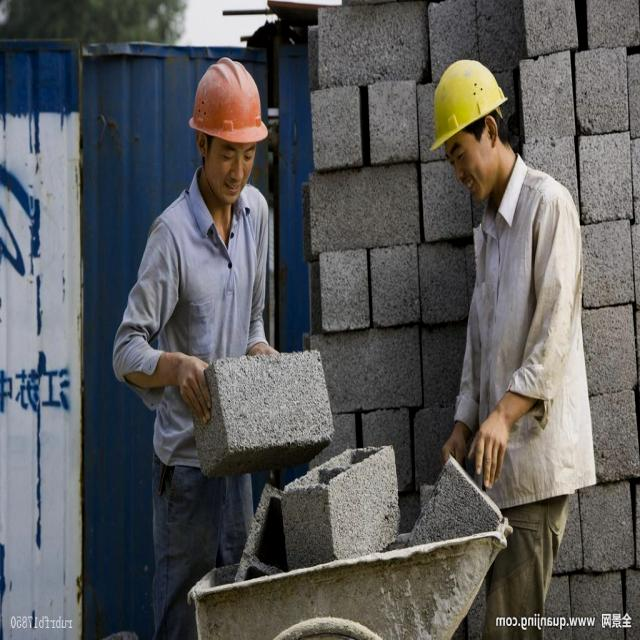face_nomask: (447, 125, 499, 206), (210, 144, 257, 203)
hand_noglove: (469, 402, 520, 496), (168, 348, 210, 422)
head_helmet: (422, 53, 506, 148), (184, 56, 271, 144)
person: (410, 48, 582, 630), (137, 40, 286, 624)
